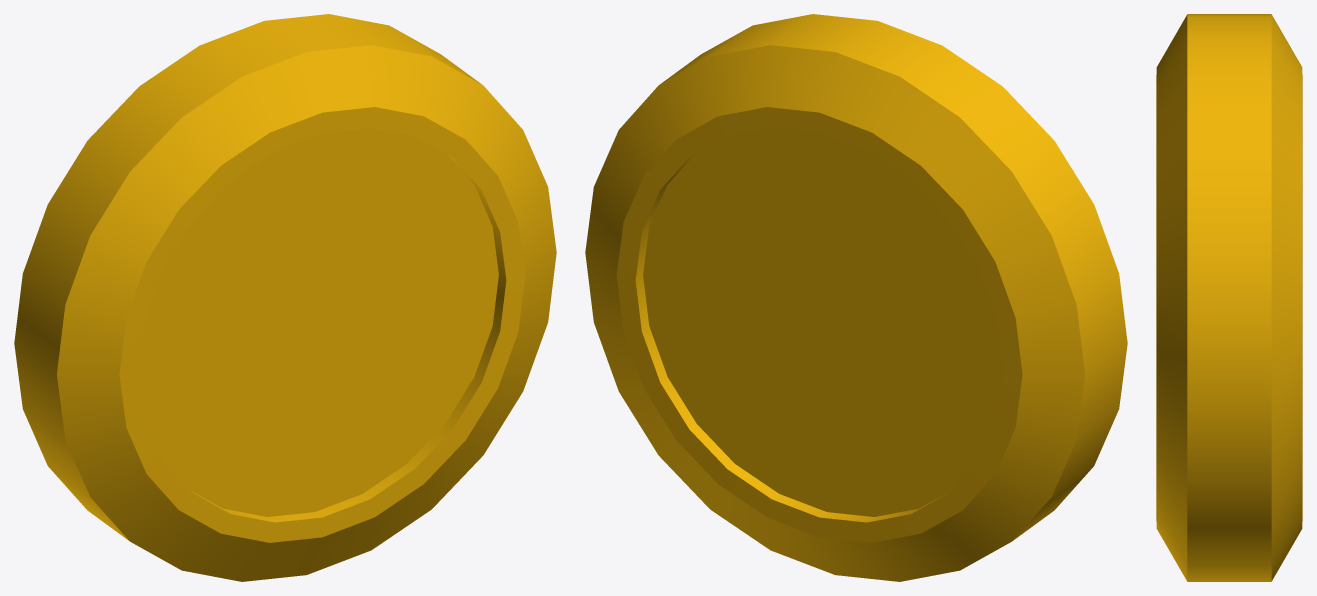
File: coin.fbx
The picture shows the model from 3 angles, left to right: view 1: azimuth 30°, elevation 25°; view 2: azimuth 150°, elevation 25°; view 3: azimuth 270°, elevation 25°; orthographic projection.
Visible parts, largest first — view 1: coin; view 2: coin; view 3: coin.
Part boxes in pixels (box(x1,y1,x2,y2)): coin: box(14, 14, 556, 581); coin: box(585, 14, 1127, 581); coin: box(1156, 14, 1302, 581).
Bounding box in the file's own units: 55.42 × 55.42 × 14.24.
